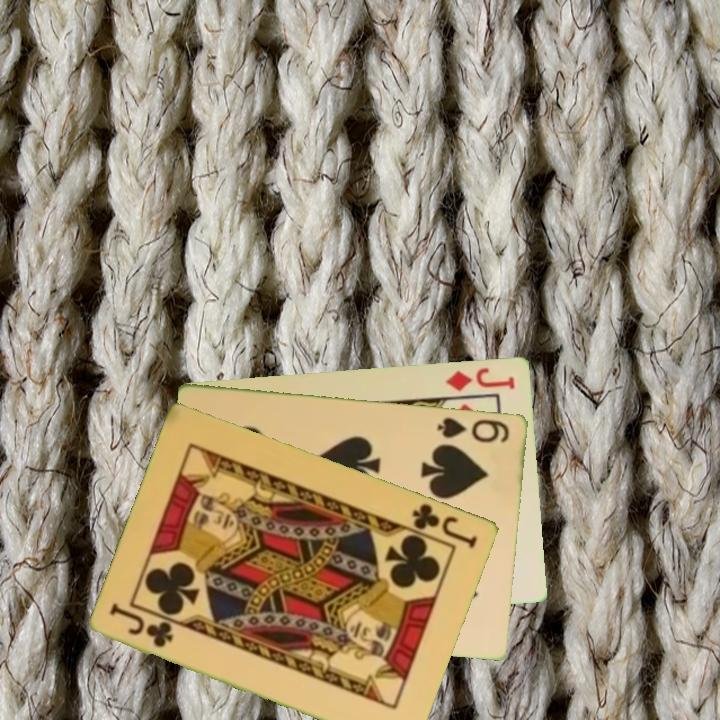6s: (434, 414, 513, 446)
Jc: (409, 499, 481, 551), (106, 601, 177, 651)
Jd: (442, 364, 518, 394)
